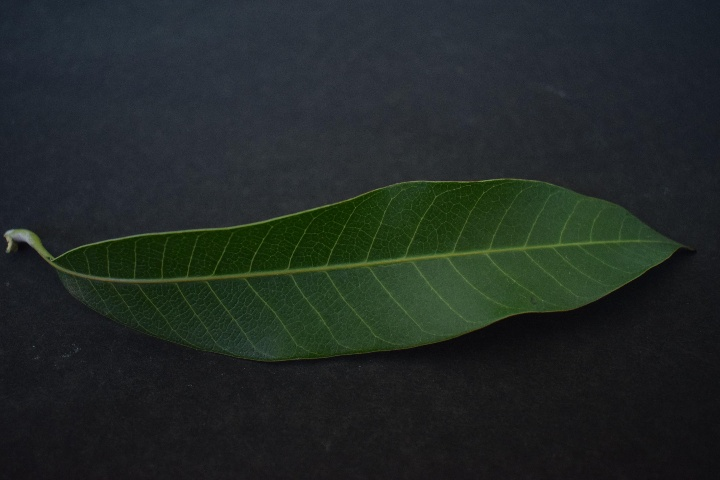healthy: (55, 170, 648, 359)
